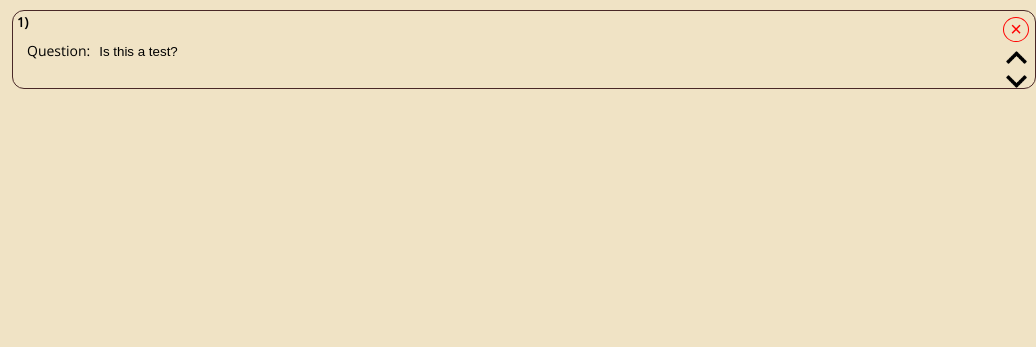
Test: Question › after user toggles the question, edit button is rendered
This screenshot has width=1036, height=347.
Click the element with test id "content" at (59, 50), box [13, 21, 1035, 78]
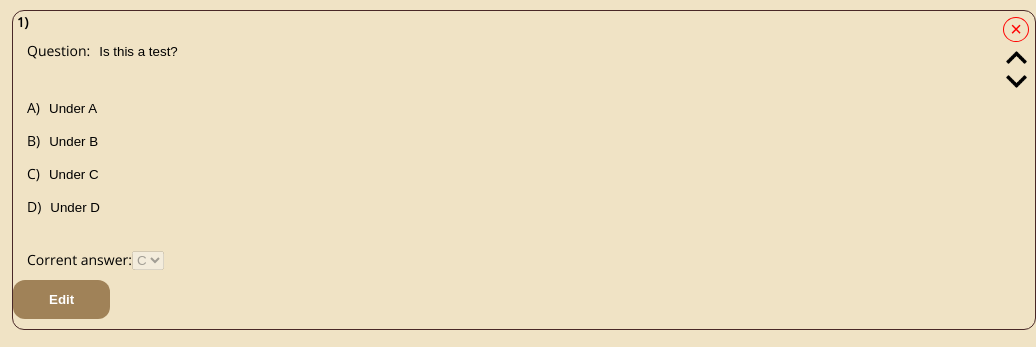
Result: the button with test id "edit-btn" is shown at [13, 280, 110, 319]
